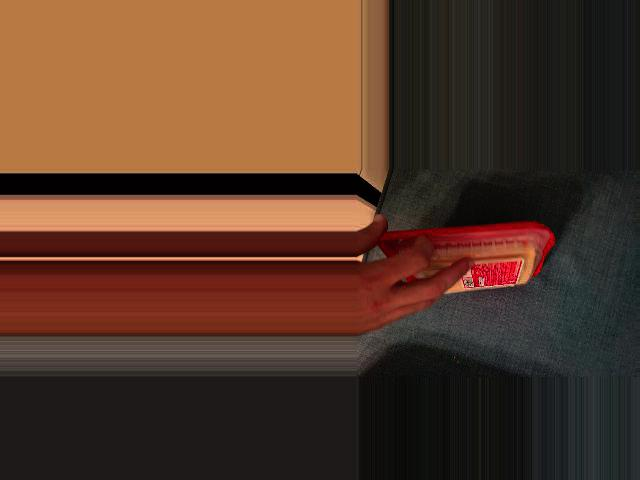cheese: (373, 220, 557, 294)
